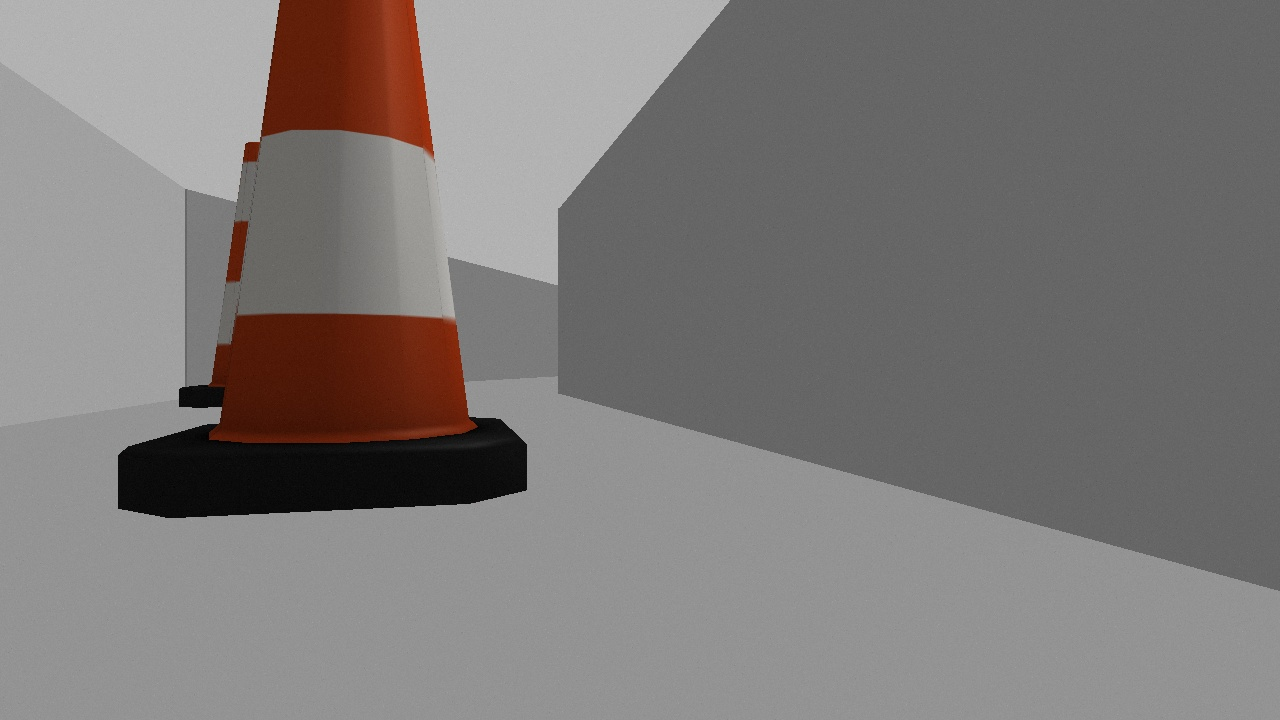barricade: (92, 1, 545, 529), (174, 140, 309, 414)
